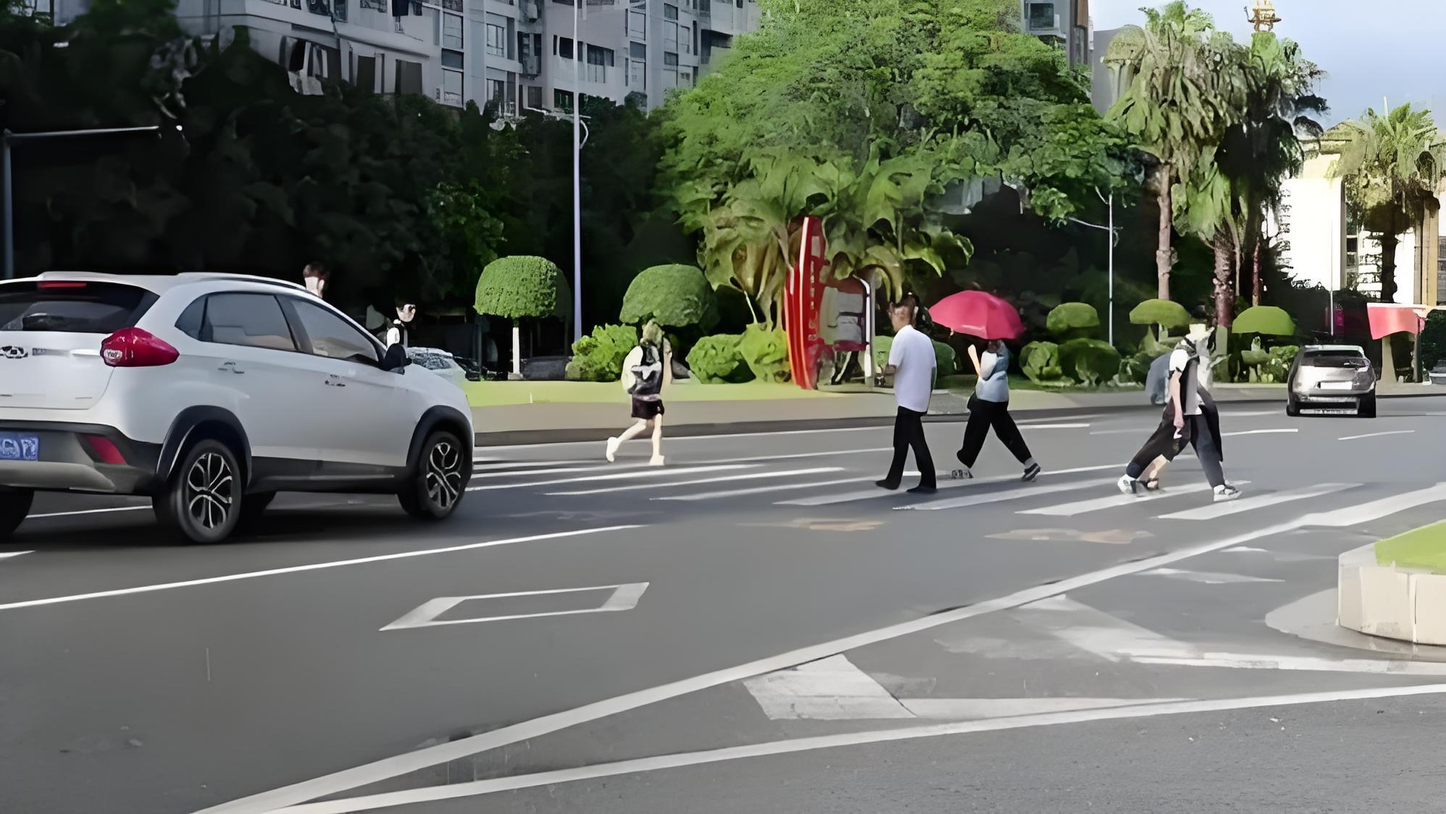car: (1, 264, 483, 545), (1283, 338, 1380, 424)
person: (1125, 306, 1237, 501), (945, 287, 1040, 488), (877, 295, 941, 495), (603, 301, 672, 466), (372, 291, 422, 358)
